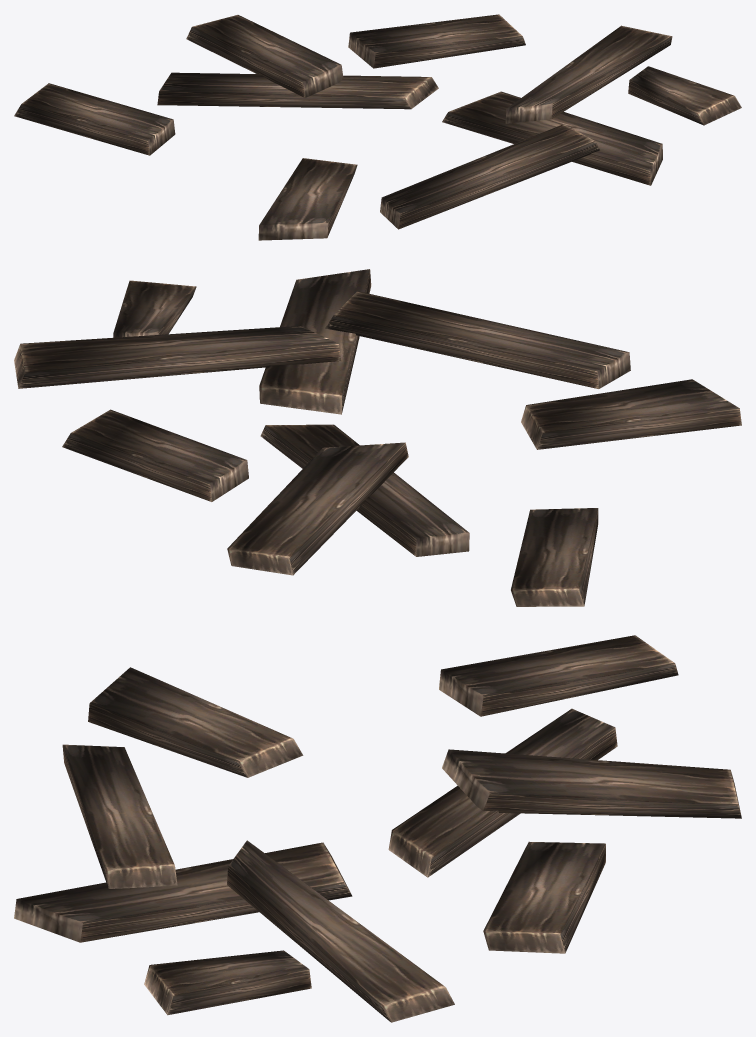
Rendered from darkironwoodplanks01.obj.
3 renders of one model, top to bottom at view 1: azimuth 30°, elevation 25°; view 2: azimuth 150°, elevation 25°; view 3: azimuth 270°, elevation 25°, orthographic. The views are drawn at different scales.
Visible parts, largest first — view 1: darkironwoodplanks01; view 2: darkironwoodplanks01; view 3: darkironwoodplanks01.
Part boxes in pixels (x1,y1,x2,y2): darkironwoodplanks01: (14,14,741,240); darkironwoodplanks01: (14,269,741,606); darkironwoodplanks01: (14,635,741,1022).
Size of the model in its own units: 9.4 by 0.5209 by 7.7.
